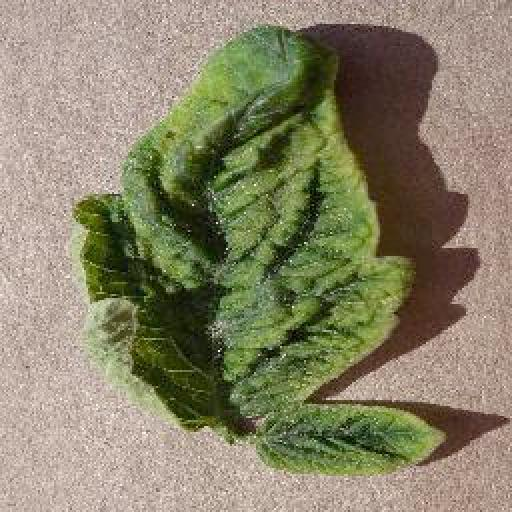disease_tomato: (72, 27, 446, 481)
